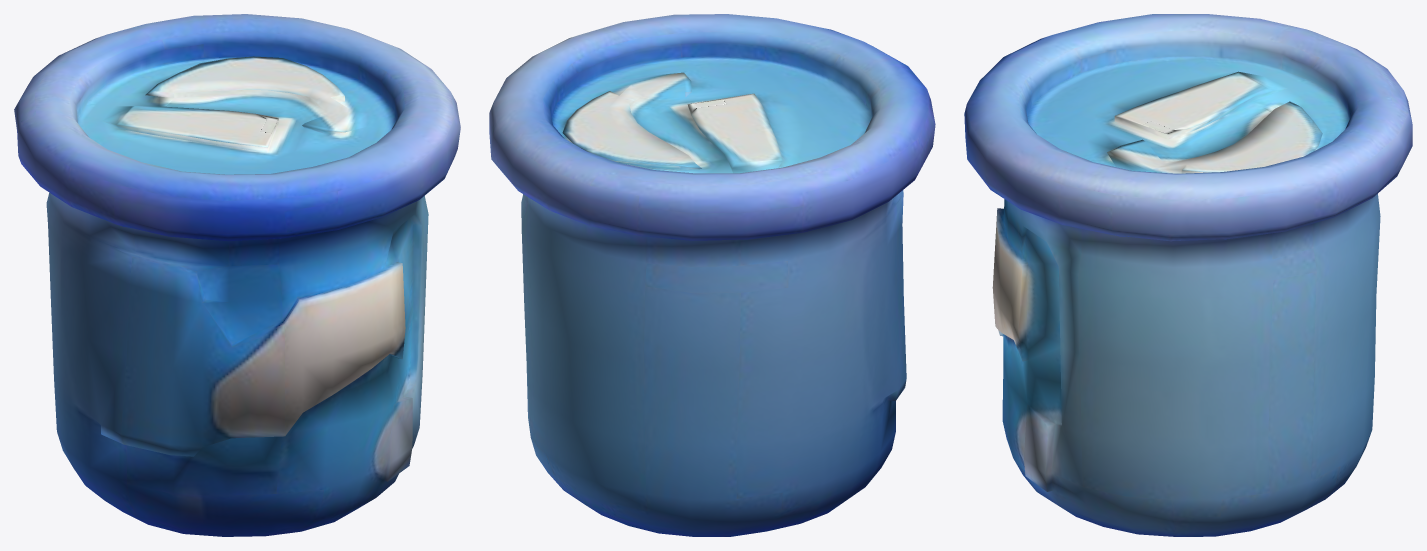
File: yogurt.glb
3 renders of one model, left to right at view 1: azimuth 30°, elevation 25°; view 2: azimuth 150°, elevation 25°; view 3: azimuth 270°, elevation 25°, orthographic.
Visible parts, largest first — view 1: Yogurt; view 2: Yogurt; view 3: Yogurt.
Boxes of the visible parts, x1,y1,x2,y2 form: Yogurt: (14, 14, 460, 536); Yogurt: (489, 14, 935, 536); Yogurt: (964, 14, 1412, 536).
Bounding box in the file's own units: 1.44 × 1.38 × 1.44.
Materials: 1 (1 with a texture image).
